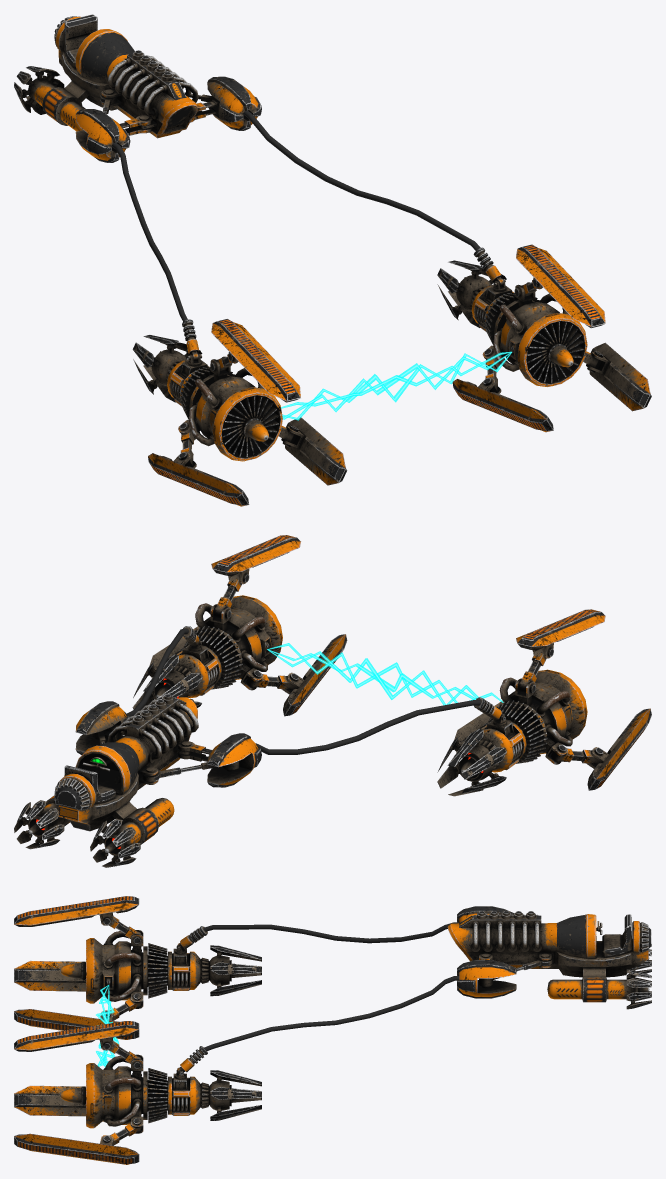
The picture shows the model from 3 angles, top to bottom: view 1: azimuth 30°, elevation 25°; view 2: azimuth 150°, elevation 25°; view 3: azimuth 270°, elevation 25°; orthographic projection. The views are drawn at different scales.
Parts seen in each view (by area): view 1: POD1, Loft010; view 2: POD1, Loft010; view 3: POD1, Loft010.
Boxes of the visible parts, <box> form: POD1: <box>14,14,651,506</box>; Loft010: <box>281,351,512,420</box>; POD1: <box>14,535,651,867</box>; Loft010: <box>267,643,503,705</box>; POD1: <box>14,896,651,1164</box>; Loft010: <box>96,985,118,1067</box>.
Size of the model in its own units: 1071 by 447 by 1555.
Materials: 3 (1 with a texture image).
